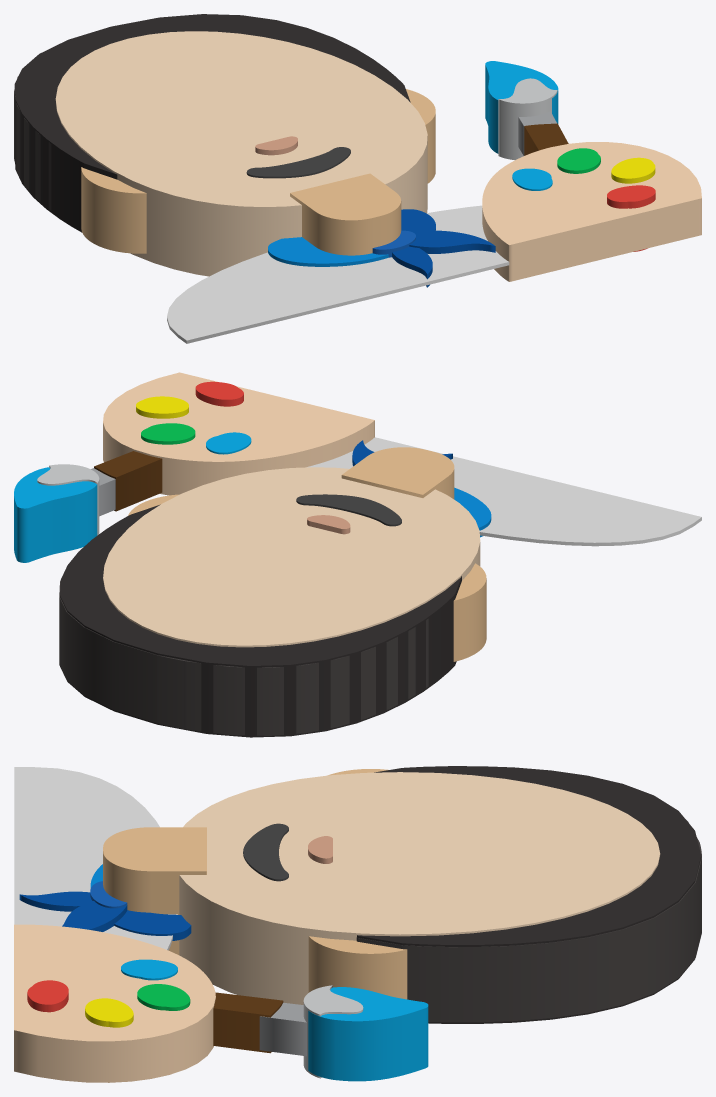
The model's file is emoji_u1f468_1f3fb_200d_1f3a8.glb.
The picture shows the model from 3 angles, top to bottom: view 1: azimuth 30°, elevation 25°; view 2: azimuth 150°, elevation 25°; view 3: azimuth 270°, elevation 25°; orthographic projection. The views are drawn at different scales.
Visible parts, largest first — view 1: emoji_u1f468_1f3fb_200d_1f3a8; view 2: emoji_u1f468_1f3fb_200d_1f3a8; view 3: emoji_u1f468_1f3fb_200d_1f3a8.
Boxes of the visible parts, x1,y1,x2,y2 form: emoji_u1f468_1f3fb_200d_1f3a8: (14, 14, 701, 343); emoji_u1f468_1f3fb_200d_1f3a8: (14, 372, 701, 737); emoji_u1f468_1f3fb_200d_1f3a8: (14, 766, 701, 1082).
Size of the model in its own units: 0.0334 by 0.005 by 0.0332.
